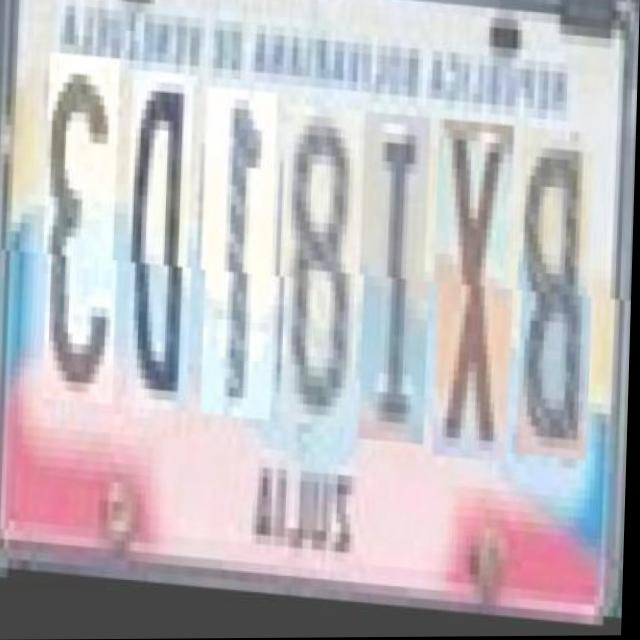1: (199, 97, 278, 430)
3: (41, 65, 120, 418)
8: (277, 112, 361, 435)
b: (514, 130, 594, 463)
d: (124, 81, 194, 422)
i: (356, 118, 431, 451)
x: (430, 123, 514, 466)
